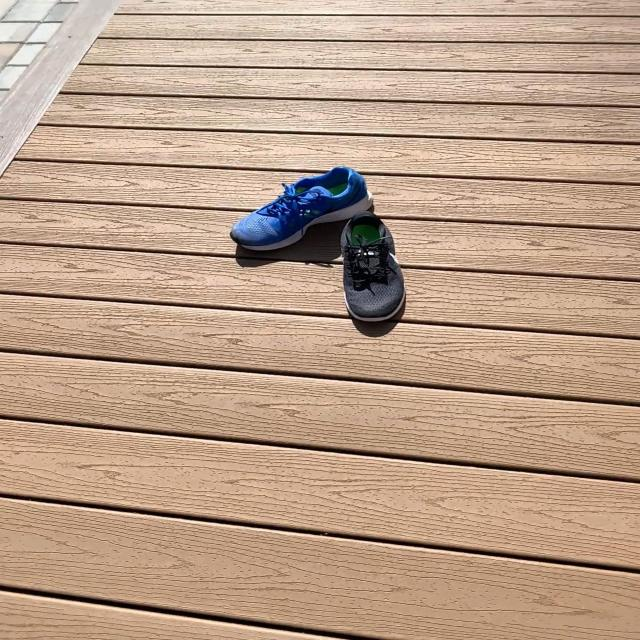shoe: (228, 166, 376, 258), (345, 216, 407, 342)
